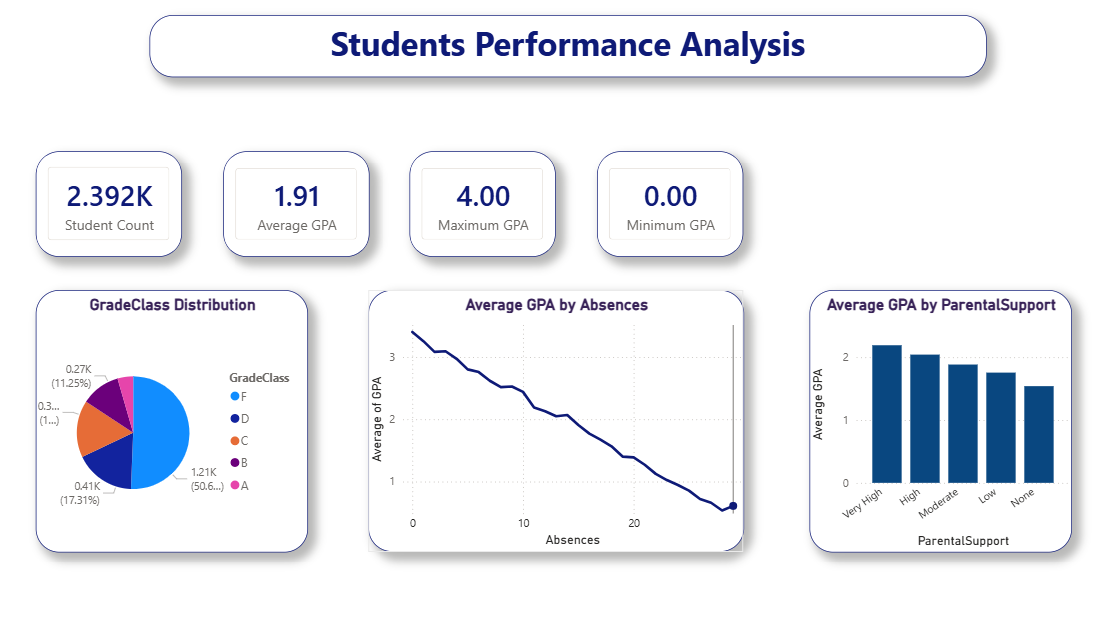

Layout of this report page (visuals, bound fields, positions):
{"tool":"powerbi","page":{"name":"Page 1","canvas":[1280,720],"ordinal":0},"visuals":[{"type":"lineChart","title":"Average GPA by Absences","fields":{"Category":["Student_performance_data _.Absences"],"Y":["Avg(Student_performance_data _.GPA)"]},"box":[424,332.1,429.5,299.1],"z":0},{"type":"pieChart","title":"GradeClass Distribution","fields":{"Category":["Student_performance_data _.GradeClass"],"Y":["CountNonNull(Student_performance_data _.GradeClass)"]},"box":[44.3,331.4,311.4,300],"z":1000},{"type":"clusteredColumnChart","fields":{"Category":["Student_performance_data _.ParentalSupport"],"Y":["Avg(Student_performance_data _.GPA)"]},"box":[928.6,331.4,300,300],"z":2000},{"type":"cardVisual","fields":{"Data":["CountNonNull(Student_performance_data _.StudentID)"]},"box":[43.9,172.9,167.4,120.8],"z":3000},{"type":"cardVisual","fields":{"Data":["Avg(Student_performance_data _.GPA)"]},"box":[258,172.9,167.4,120.8],"z":4000},{"type":"textbox","box":[174.3,16.5,956.4,71.4],"z":5000},{"type":"cardVisual","fields":{"Data":["Max(Student_performance_data _.GPA)"]},"box":[472,172.9,167.4,120.8],"z":6000},{"type":"cardVisual","fields":{"Data":["Min(Student_performance_data _.GPA)"]},"box":[686.1,172.9,167.4,120.8],"z":7000}]}

Visuals, with their boxes in screenshot pixels (x1, y1, x2, y2), scaled from the page's 1280x720 canvas onto the 1108x622 screenshot:
"Average GPA by Absences" lineChart: bbox(367, 287, 739, 545)
"GradeClass Distribution" pieChart: bbox(38, 286, 308, 545)
clusteredColumnChart - Student_performance_data _.ParentalSupport x Avg(Student_performance_data _.GPA): bbox(804, 286, 1064, 545)
cardVisual - CountNonNull(Student_performance_data _.StudentID): bbox(38, 149, 183, 254)
cardVisual - Avg(Student_performance_data _.GPA): bbox(223, 149, 368, 254)
textbox: bbox(151, 14, 979, 76)
cardVisual - Max(Student_performance_data _.GPA): bbox(409, 149, 553, 254)
cardVisual - Min(Student_performance_data _.GPA): bbox(594, 149, 739, 254)
